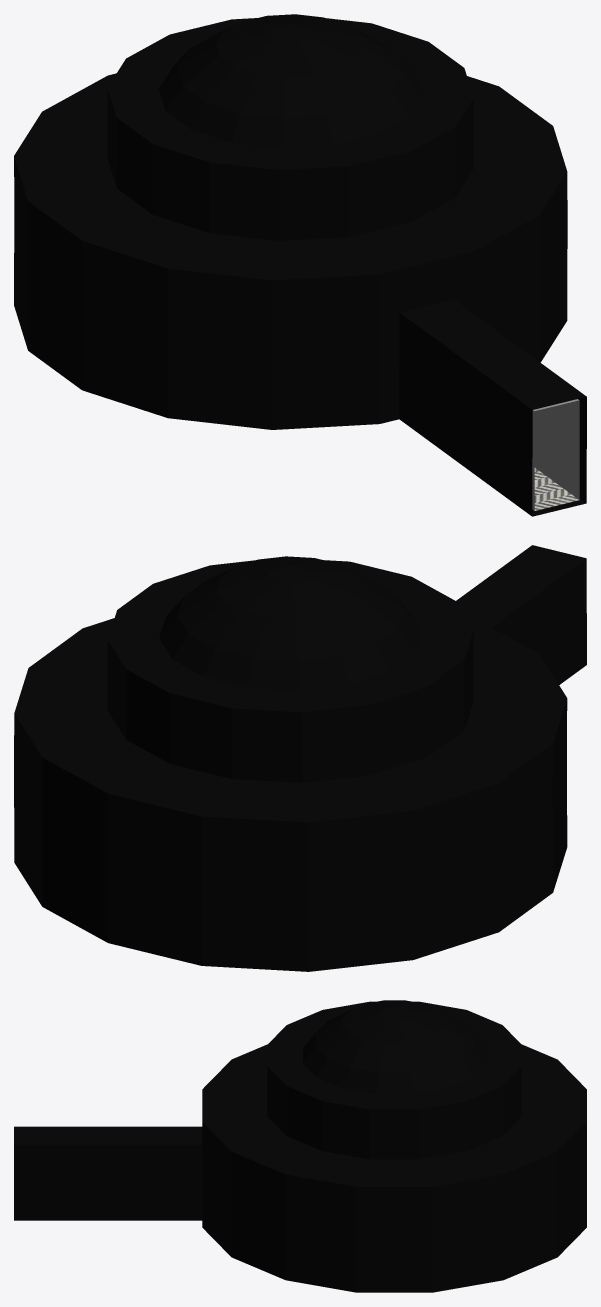
The model's file is hall.gltf.
The picture shows the model from 3 angles, top to bottom: view 1: azimuth 30°, elevation 25°; view 2: azimuth 150°, elevation 25°; view 3: azimuth 270°, elevation 25°; orthographic projection. The views are drawn at different scales.
Visible parts, largest first — view 1: out, hall; view 2: out; view 3: out.
Boxes of the visible parts, <box> form: out: <box>14,14,586,516</box>; hall: <box>532,399,579,510</box>; out: <box>14,545,586,971</box>; out: <box>14,1000,586,1292</box>.
Size of the model in its own units: 20.45 by 11.59 by 30.43.
4 materials, 2 textured.
